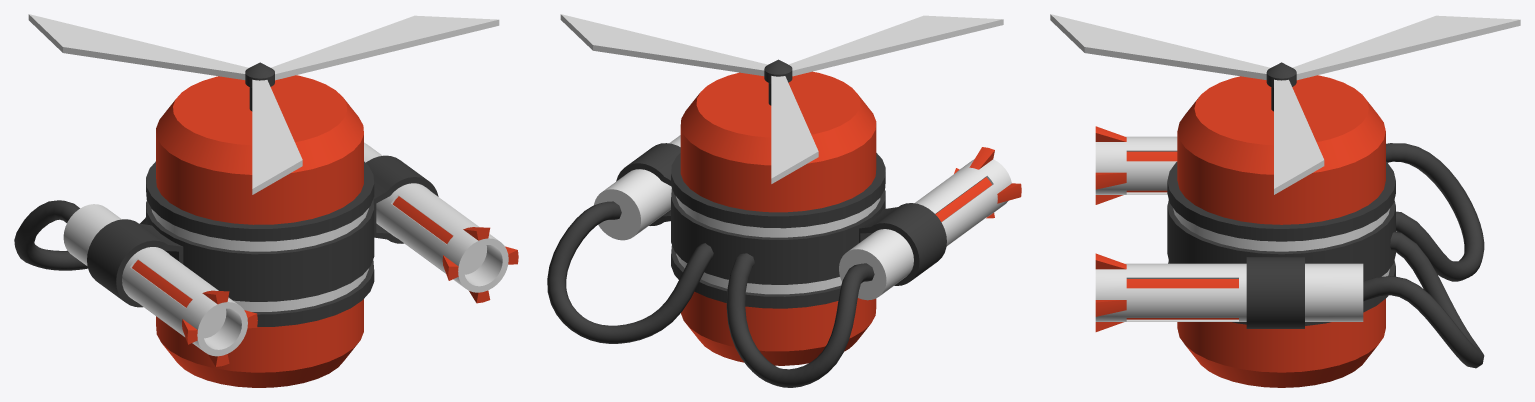
The model's file is Flying.fbx.
The picture shows the model from 3 angles, left to right: view 1: azimuth 30°, elevation 25°; view 2: azimuth 150°, elevation 25°; view 3: azimuth 270°, elevation 25°; orthographic projection. The views are drawn at different scales.
Visible parts, largest first — view 1: MainBody, CenterBelt, Guns, PropellerBlades, GunHolders, CenterBeltAccessories, GunPipes, Guns.001, Guns.002, PropellerHolder; view 2: MainBody, CenterBelt, GunPipes, PropellerBlades, Guns, GunHolders, CenterBeltAccessories, Guns.001, Guns.002, PropellerHolder; view 3: MainBody, Guns, PropellerBlades, CenterBelt, GunPipes, GunHolders, CenterBeltAccessories, Guns.002, Guns.001, PropellerHolder.
Part boxes in pixels (x1,y1,x2,y2): MainBody: [156, 75, 363, 387]; CenterBelt: [146, 161, 374, 326]; Guns: [63, 142, 508, 356]; PropellerBlades: [28, 14, 499, 194]; GunHolders: [87, 155, 438, 307]; CenterBeltAccessories: [151, 208, 368, 311]; GunPipes: [14, 200, 145, 270]; Guns.001: [182, 227, 518, 366]; Guns.002: [132, 196, 452, 307]; PropellerHolder: [245, 62, 274, 111]; MainBody: [680, 71, 876, 365]; CenterBelt: [671, 153, 885, 308]; GunPipes: [547, 201, 874, 387]; PropellerBlades: [560, 14, 1003, 183]; Guns: [594, 135, 1011, 300]; GunHolders: [616, 143, 946, 285]; CenterBeltAccessories: [676, 196, 880, 294]; Guns.001: [954, 147, 1021, 218]; Guns.002: [935, 177, 991, 221]; PropellerHolder: [764, 59, 792, 105]; MainBody: [1177, 75, 1385, 387]; Guns: [1095, 136, 1363, 321]; PropellerBlades: [1050, 14, 1520, 194]; CenterBelt: [1167, 161, 1395, 325]; GunPipes: [1363, 143, 1484, 368]; GunHolders: [1246, 257, 1304, 328]; CenterBeltAccessories: [1173, 208, 1389, 276]; Guns.002: [1126, 151, 1238, 319]; Guns.001: [1095, 126, 1126, 331]; PropellerHolder: [1266, 62, 1296, 111].
Size of the model in its own units: 68.6 by 47.22 by 69.75.
